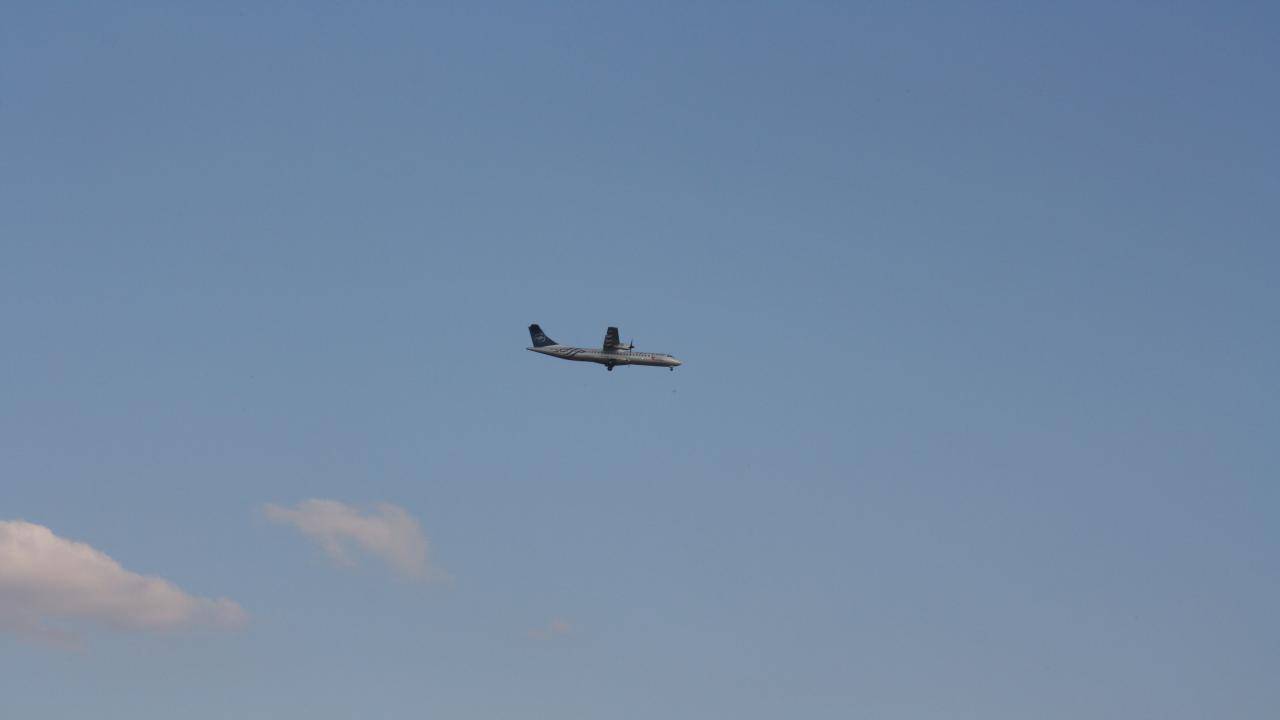Airplane: (502, 309, 695, 395)
